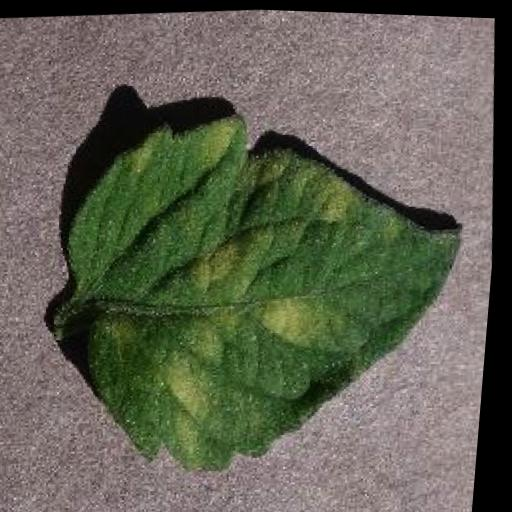Leaf Mold: (45, 92, 495, 488)
